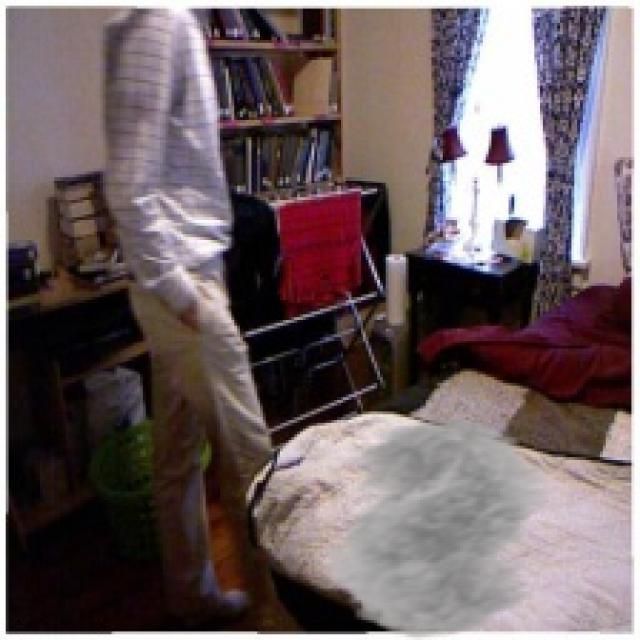Smoke: (303, 417, 583, 637)
